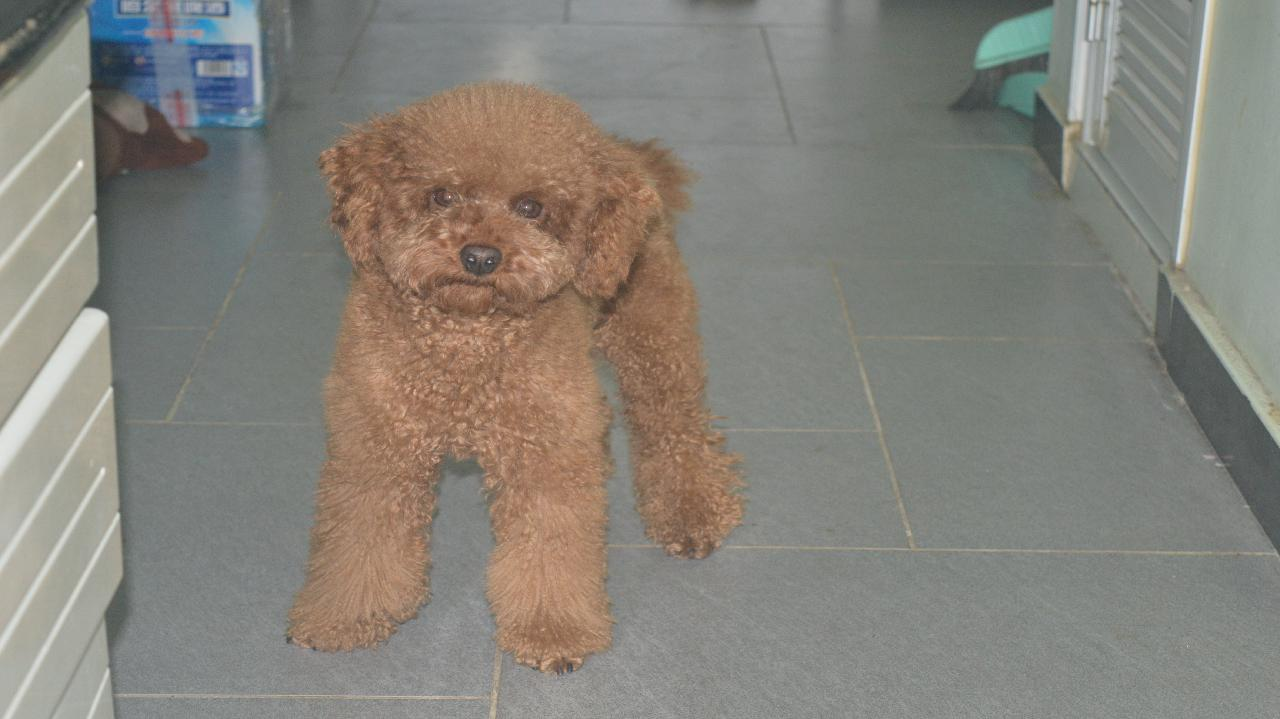zhuangzhuang: (291, 83, 731, 670)
